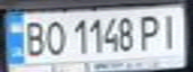1: (87, 15, 106, 54), (69, 16, 87, 55)
4: (103, 14, 121, 53)
8: (115, 14, 139, 53)
B: (18, 18, 48, 58)
I: (157, 9, 184, 50)
O: (42, 17, 69, 56)
P: (136, 11, 166, 52)
